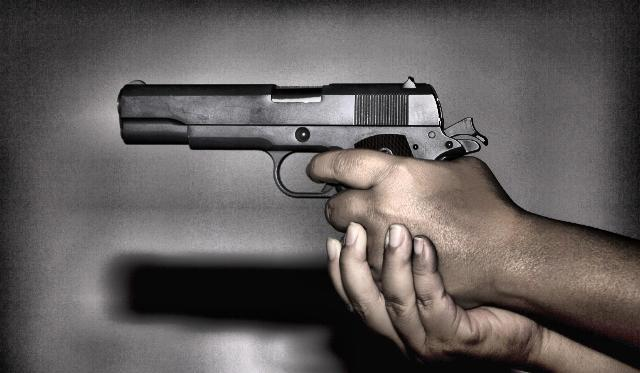pistol: (118, 74, 488, 210)
